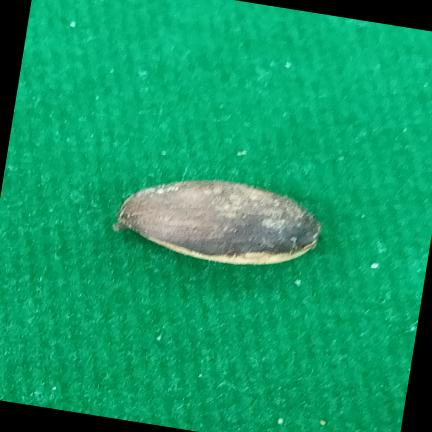husk: (113, 180, 321, 265)
